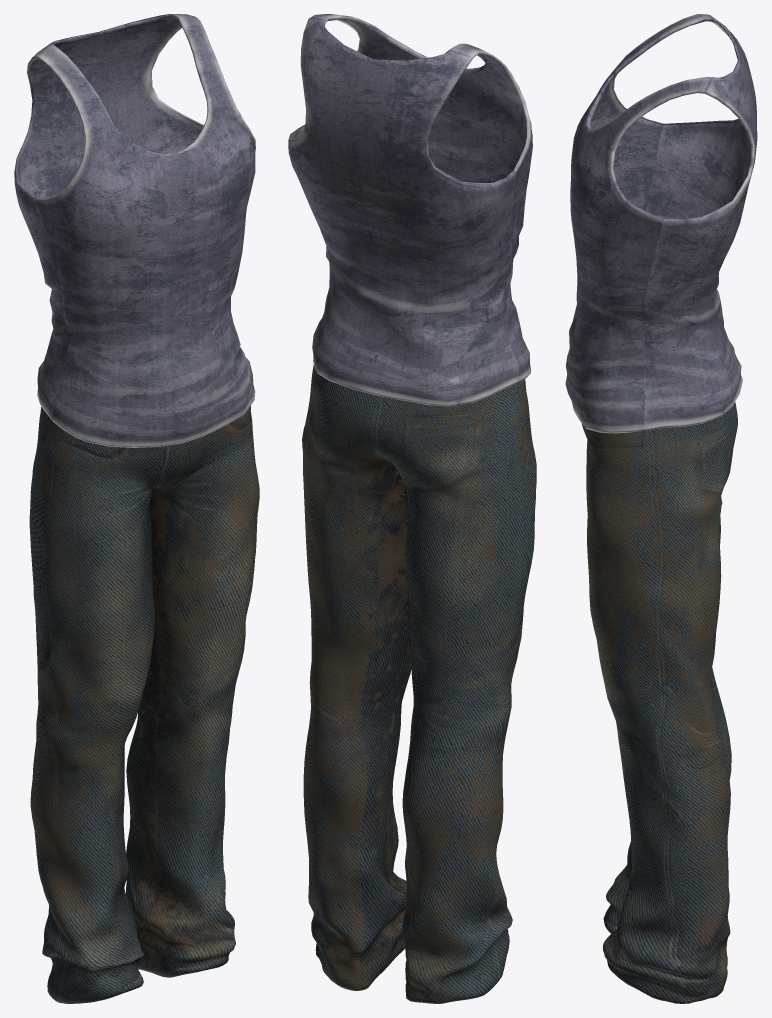
Rendered from manSuit5.obj.
The picture shows the model from 3 angles, left to right: view 1: azimuth 30°, elevation 25°; view 2: azimuth 150°, elevation 25°; view 3: azimuth 270°, elevation 25°; orthographic projection. The views are drawn at different scales.
Visible parts, largest first — view 1: Jeans, Tank top; view 2: Jeans, Tank top; view 3: Jeans, Tank top.
Part boxes in pixels (box(x1,y1,x2,y2)): Jeans: box(29, 405, 259, 1003); Tank top: box(14, 14, 255, 447); Jeans: box(302, 364, 536, 1003); Tank top: box(288, 14, 532, 406); Jeans: box(581, 402, 737, 1003); Tank top: box(565, 14, 757, 433).
Size of the model in its own units: 35.21 by 152 by 28.48.
